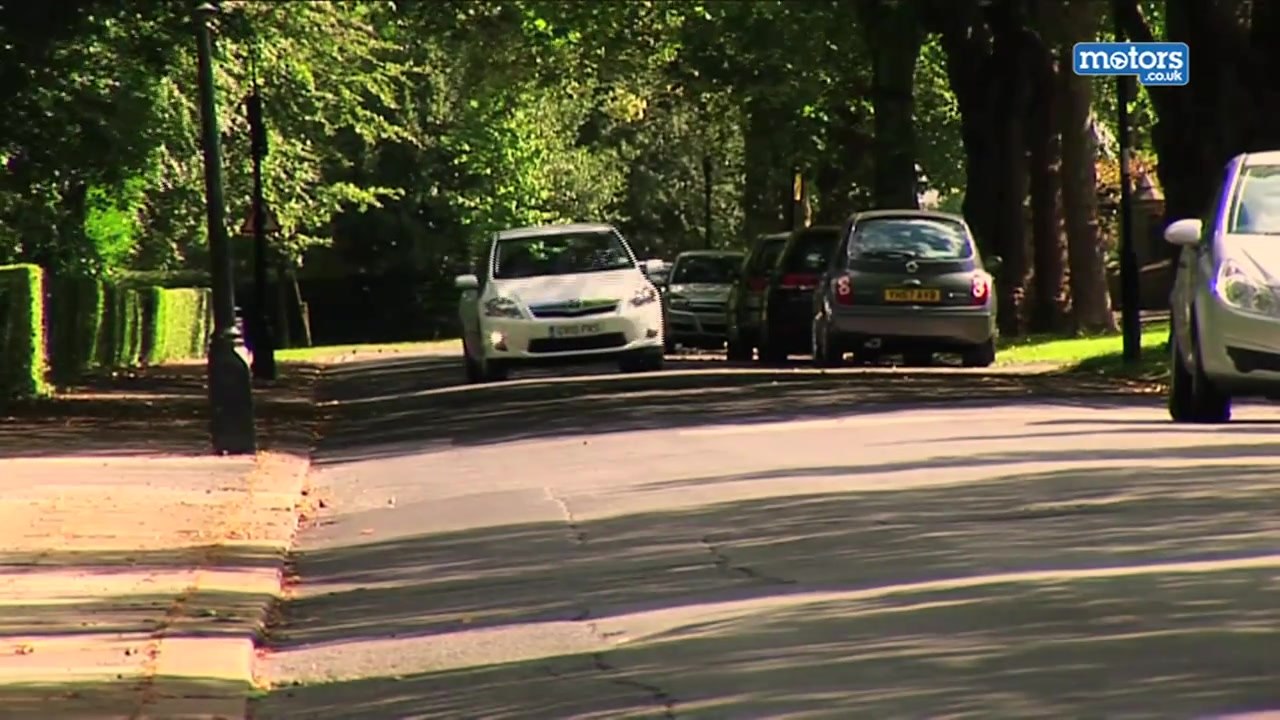car: (454, 221, 673, 376), (1161, 143, 1280, 425), (810, 207, 1005, 370), (769, 224, 843, 363), (651, 243, 747, 344), (721, 232, 790, 365)
